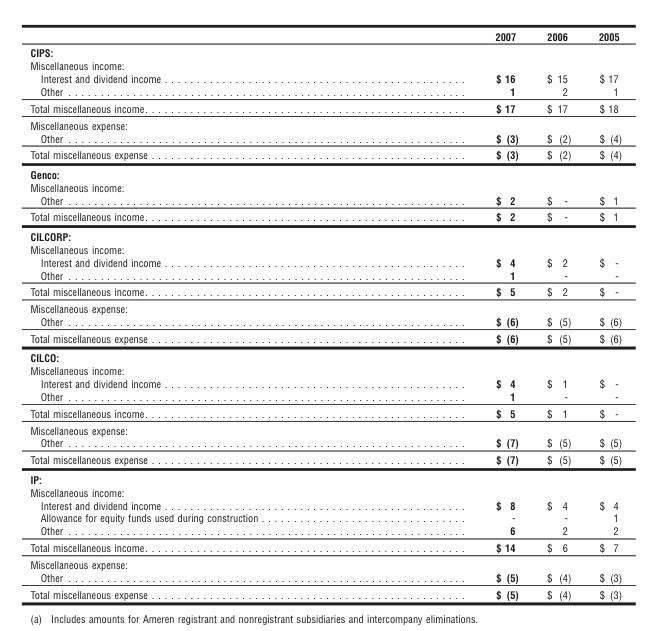table: (29, 29, 621, 600)
table column: (29, 29, 375, 600), (375, 29, 531, 600), (531, 29, 584, 600), (584, 29, 621, 600)
table column header: (29, 29, 621, 44)
table projected row header: (29, 164, 621, 180), (29, 226, 621, 242), (29, 347, 621, 363), (29, 469, 621, 485), (29, 116, 621, 131), (29, 299, 621, 314), (29, 421, 621, 436), (29, 555, 621, 570), (29, 44, 621, 58), (29, 58, 621, 71), (29, 180, 621, 193), (29, 242, 621, 255), (29, 363, 621, 376), (29, 485, 621, 498)
table row: (29, 146, 621, 164), (29, 208, 621, 226), (29, 329, 621, 347), (29, 451, 621, 469), (29, 99, 621, 116), (29, 404, 621, 421), (29, 538, 621, 555), (29, 164, 621, 180), (29, 226, 621, 242), (29, 283, 621, 299), (29, 347, 621, 363), (29, 469, 621, 485), (29, 29, 621, 44), (29, 84, 621, 99), (29, 116, 621, 131), (29, 131, 621, 146), (29, 193, 621, 208), (29, 268, 621, 283), (29, 299, 621, 314), (29, 314, 621, 329), (29, 389, 621, 404), (29, 421, 621, 436), (29, 436, 621, 451), (29, 555, 621, 570), (29, 570, 621, 585), (29, 585, 621, 600), (29, 44, 621, 58), (29, 524, 621, 538), (29, 58, 621, 71), (29, 71, 621, 84), (29, 180, 621, 193), (29, 242, 621, 255), (29, 255, 621, 268), (29, 363, 621, 376), (29, 376, 621, 389), (29, 485, 621, 498), (29, 498, 621, 511), (29, 511, 621, 524)
